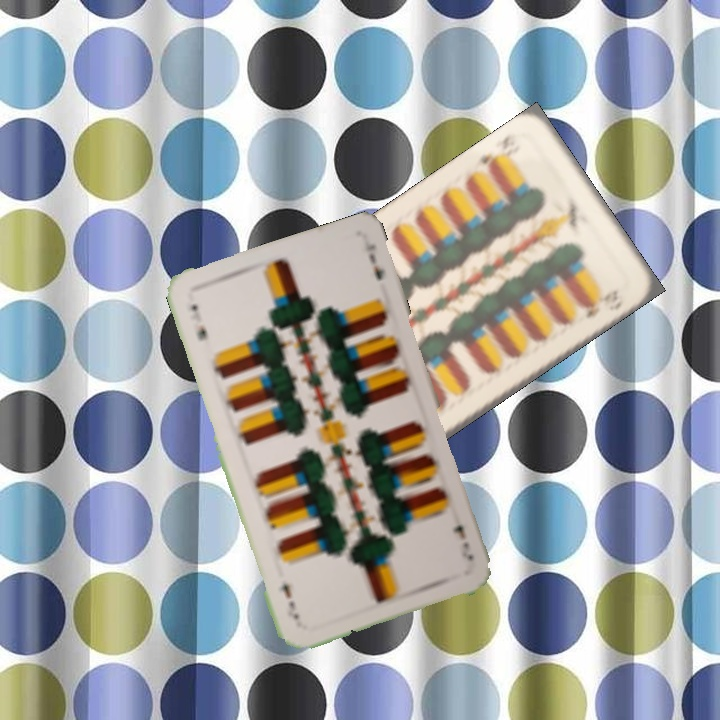E10: (474, 129, 521, 176)
E7: (448, 521, 476, 564), (186, 300, 210, 344)
